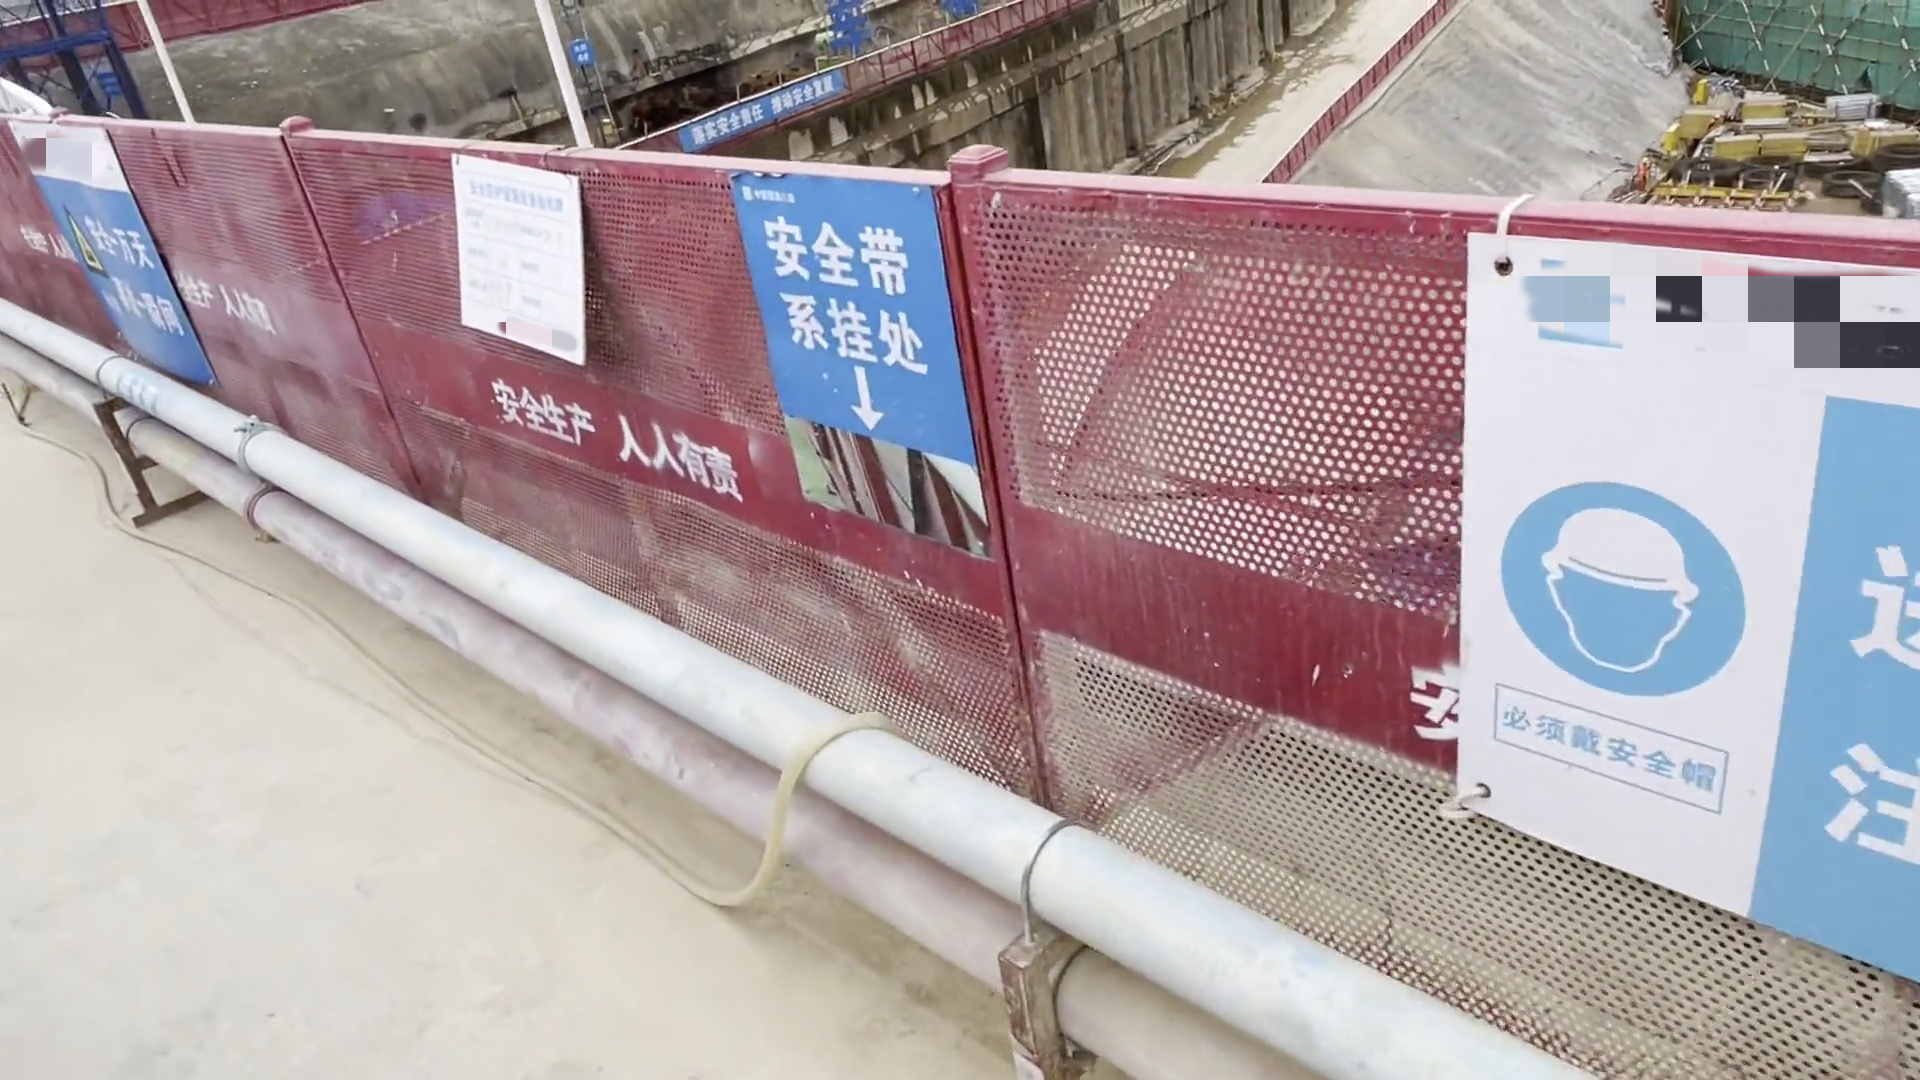fence: (243, 123, 1455, 949)
slogan: (1428, 237, 1920, 993), (732, 167, 977, 467), (4, 115, 229, 392), (673, 80, 837, 160)
